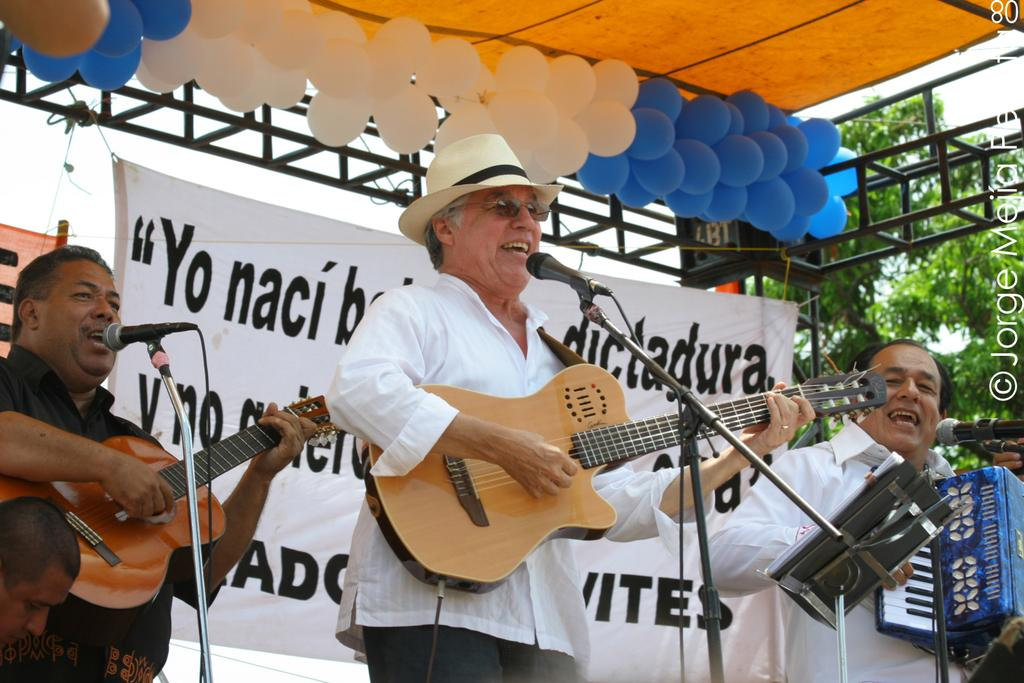Hat: (396, 131, 564, 249)
